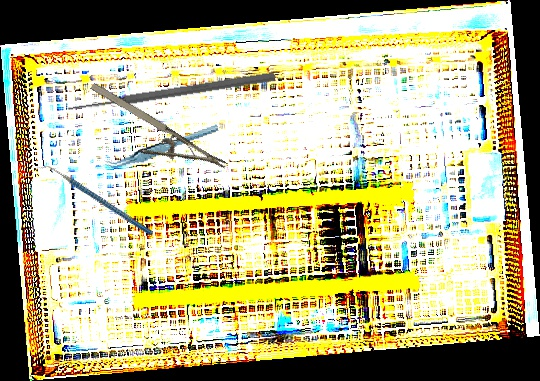Chopper: (36, 135, 154, 265)
Needle Holder: (76, 78, 228, 196)
Pusher: (66, 69, 276, 116)
Tissue Forceps: (102, 123, 222, 172)
